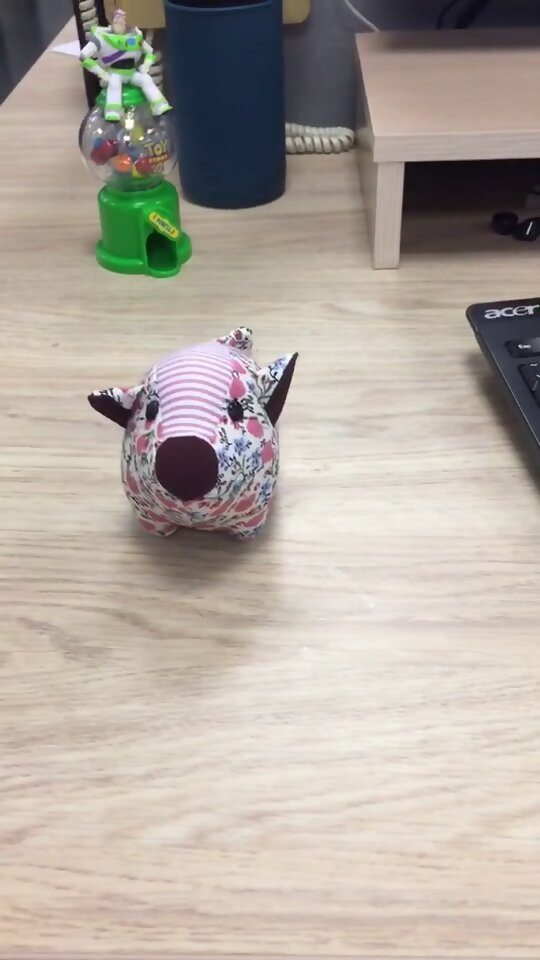pig: (83, 323, 301, 548)
